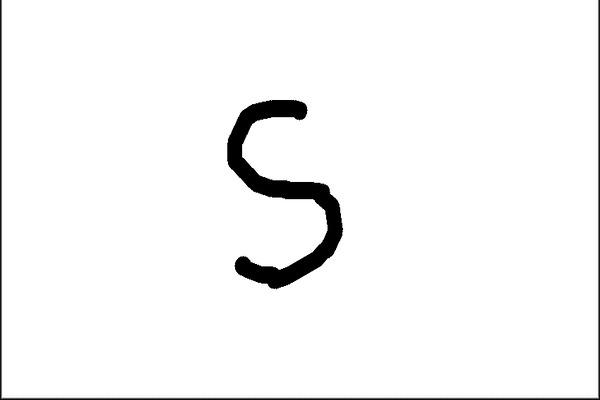S: (219, 94, 352, 288)
